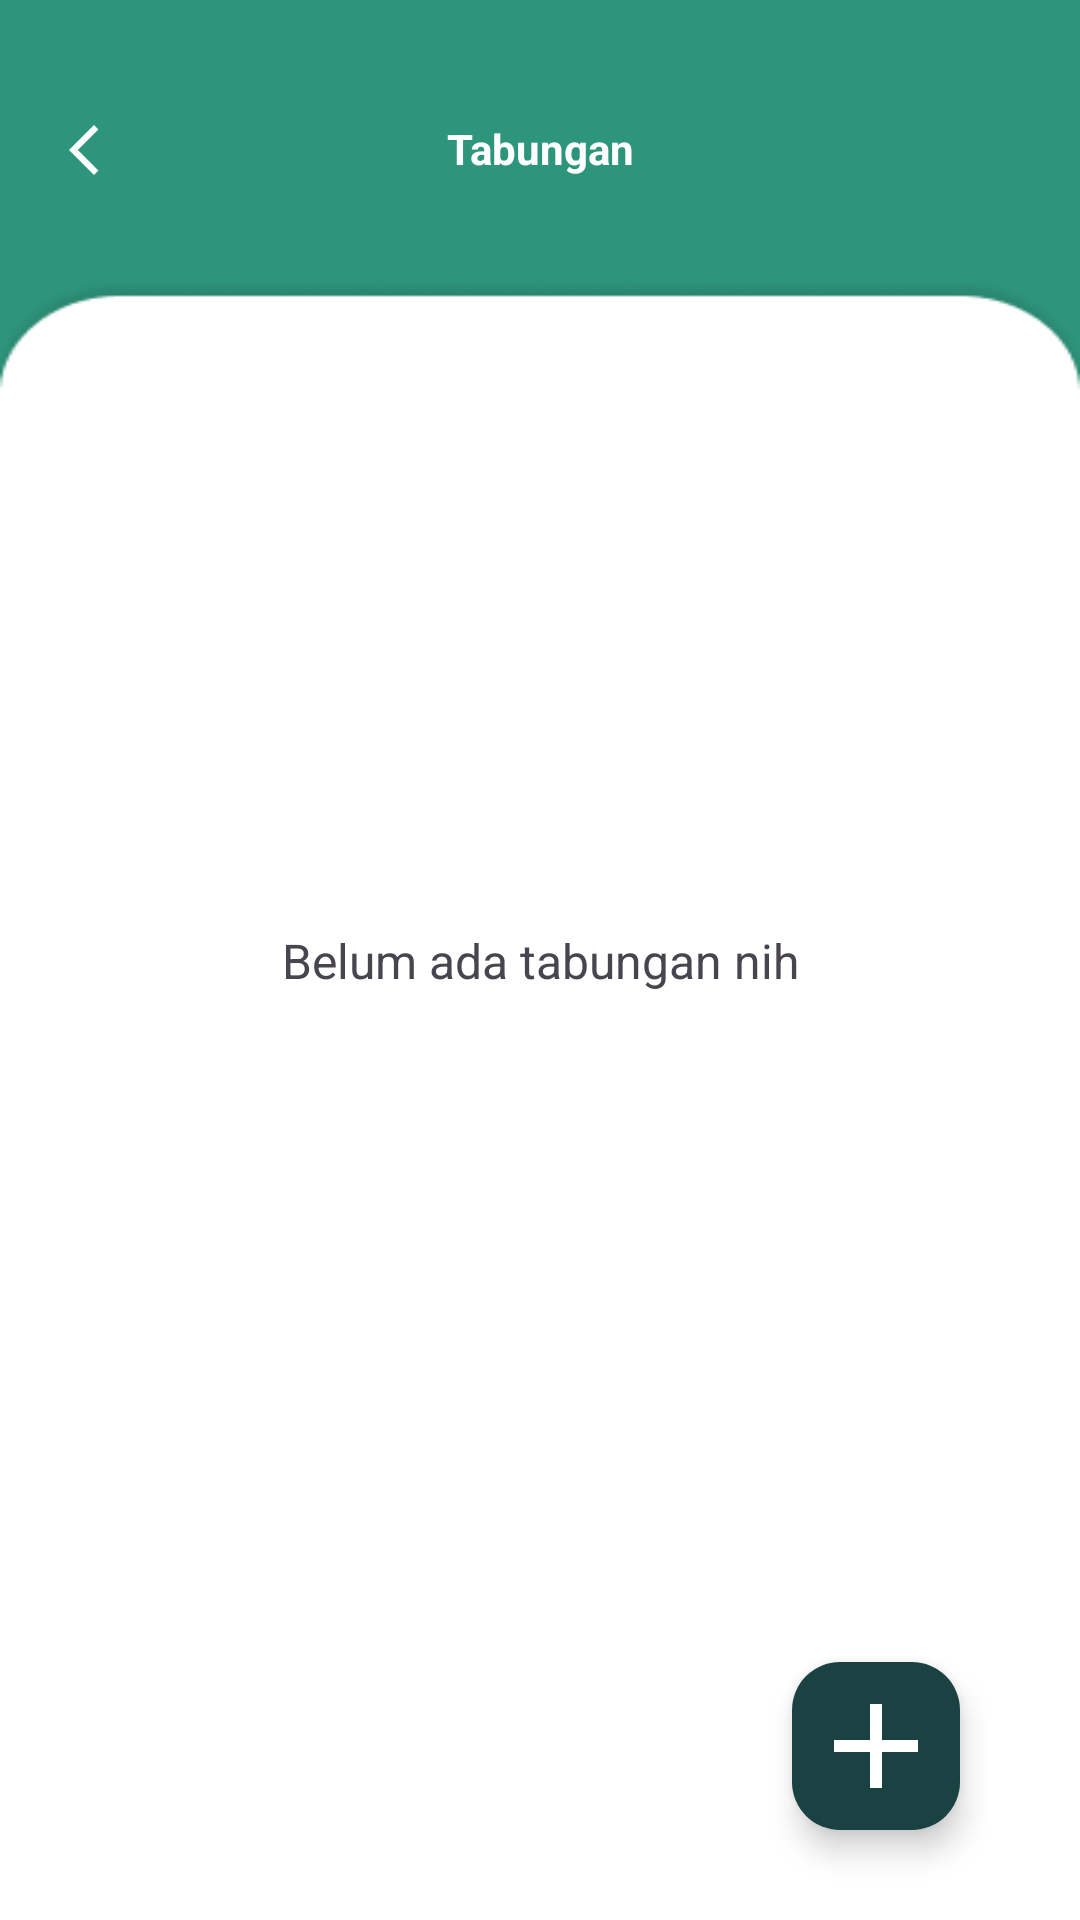

Icons on this 1080×1920 Android screen, each with the point to tap as (x,y):
add: (876,1746)
arrow back: (84,150)
